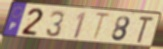1: (73, 12, 87, 40)
2: (20, 7, 45, 38)
3: (46, 9, 65, 38)
8: (112, 16, 131, 43)
T: (134, 15, 156, 45), (91, 12, 112, 42)
